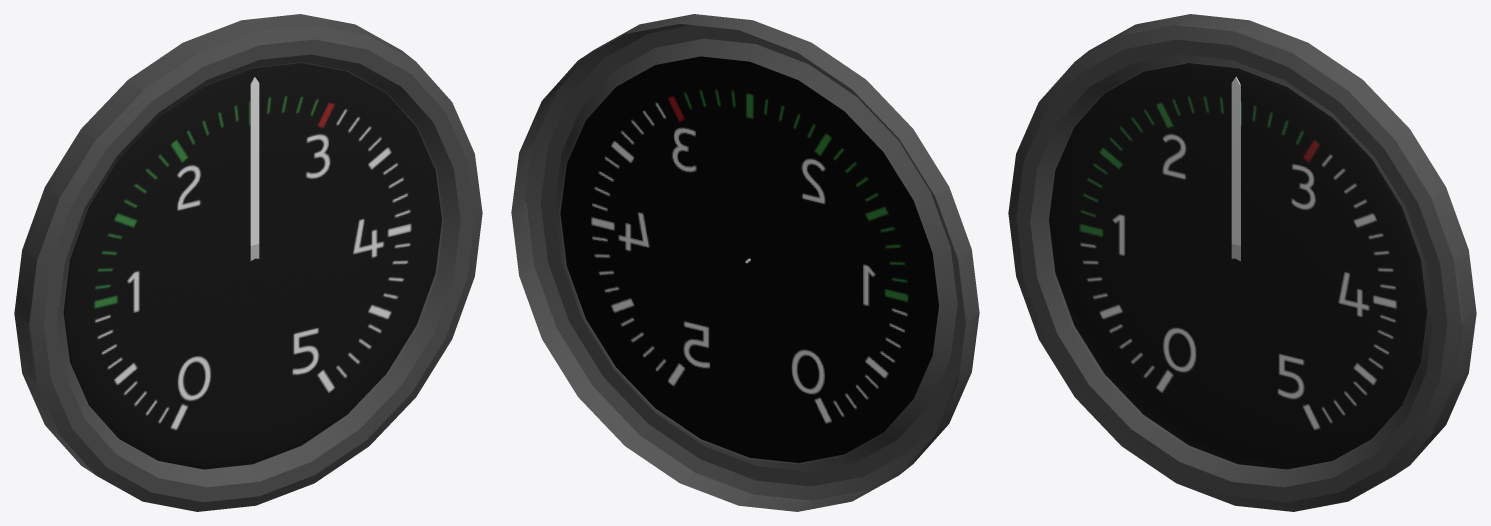
Rendered from Gauge_0-5.obj.
3 views of the same model, side by side, from view 1: azimuth 30°, elevation 25°; view 2: azimuth 150°, elevation 25°; view 3: azimuth 330°, elevation 25° (orthographic).
Parts seen in each view (by area): view 1: Face, Rim, NeedleMain; view 2: Face, Rim; view 3: Face, Rim, NeedleMain.
Part boxes in pixels (x1,y1,x2,y2): Face: (63, 63, 441, 469); Rim: (14, 14, 482, 511); NeedleMain: (250, 77, 259, 245); Face: (560, 56, 938, 462); Rim: (511, 14, 979, 511); Face: (1049, 63, 1427, 469); Rim: (1008, 14, 1476, 511); NeedleMain: (1231, 77, 1240, 245).
Size of the model in its own units: 0.0822 by 0.0822 by 0.00794.
